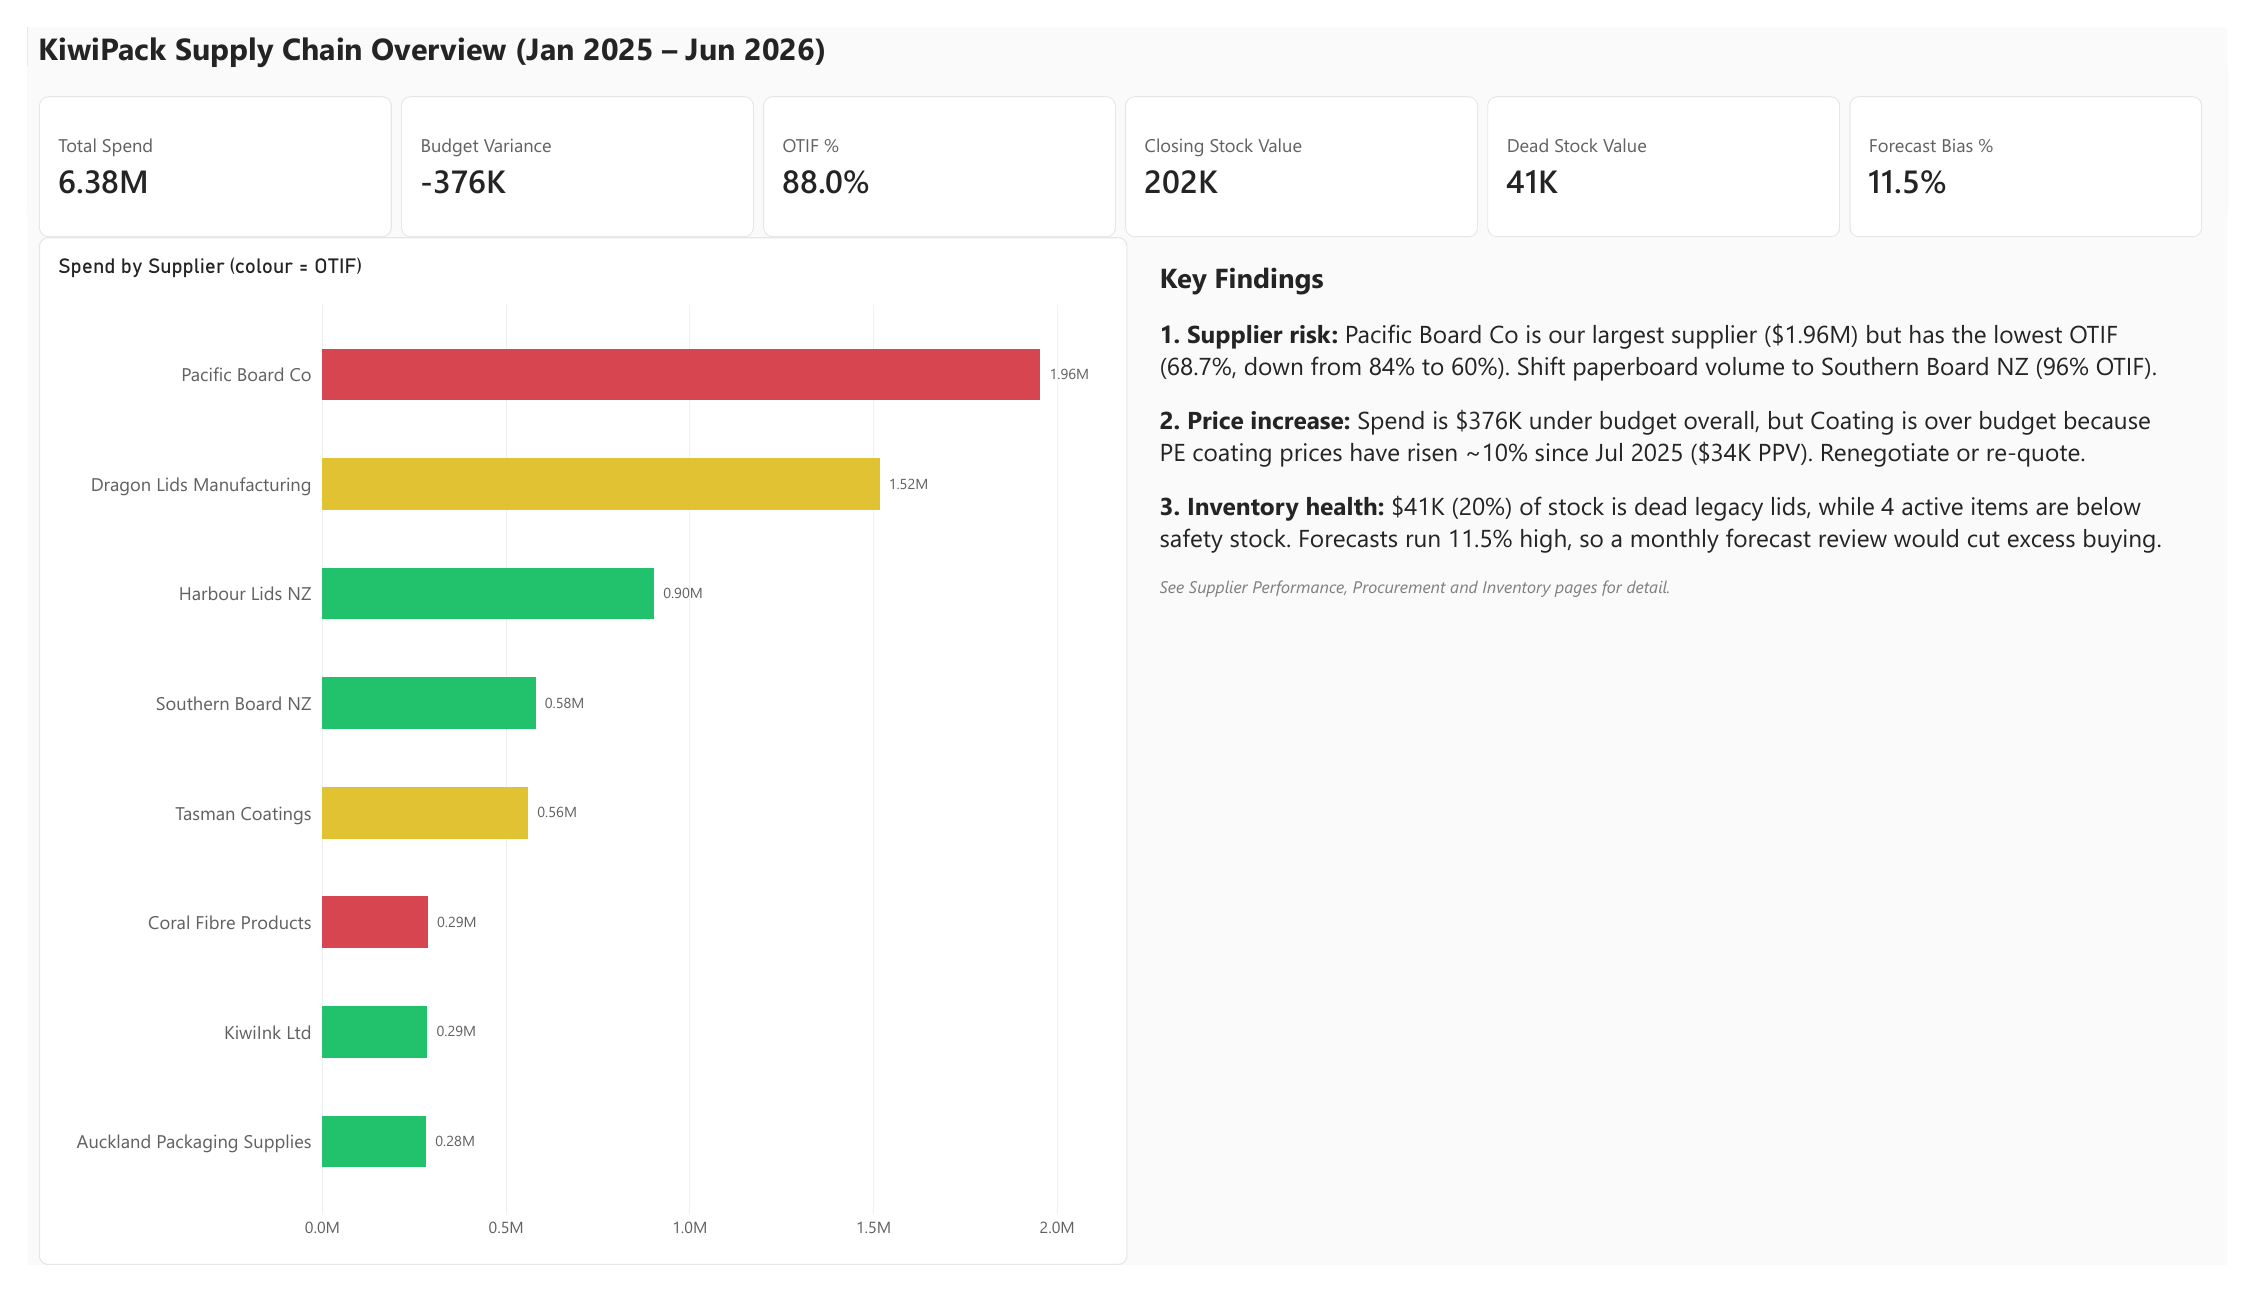

What the dashboard file says about the page in this screenshot:
{"tool":"powerbi","page":{"name":"Executive Summary","canvas":[1920,1080],"ordinal":0},"visuals":[{"type":"textbox","box":[10,0,775,60],"z":0},{"type":"cardVisual","fields":{"Data":["_Measures.Total Spend","_Measures.Budget Variance","_Measures.OTIF %","_Measures.Closing Stock Value","_Measures.Dead Stock Value","_Measures.Forecast Bias %"]},"box":[10,60,1887.5,122.5],"z":1000},{"type":"textbox","box":[225,856.7,960,178.3],"z":2000},{"type":"textbox","box":[987.5,182.5,887.5,897.5],"z":3000},{"type":"clusteredBarChart","title":"Spend by Supplier (colour = OTIF)","fields":{"Category":["dim_supplier.supplier_name"],"Y":["_Measures.Total Spend"]},"box":[10,182.5,950,897.5],"z":3001}]}

Visuals, with their boxes in screenshot pixels (x1, y1, x2, y2), scaled from the page's 1920x1080 canvas onto the 2255x1293 screenshot:
textbox: [left=12, top=0, right=922, bottom=72]
cardVisual - _Measures.Total Spend x _Measures.Budget Variance: [left=12, top=72, right=2229, bottom=218]
textbox: [left=264, top=1026, right=1392, bottom=1239]
textbox: [left=1160, top=218, right=2202, bottom=1292]
"Spend by Supplier (colour = OTIF)" clusteredBarChart: [left=12, top=218, right=1128, bottom=1292]
